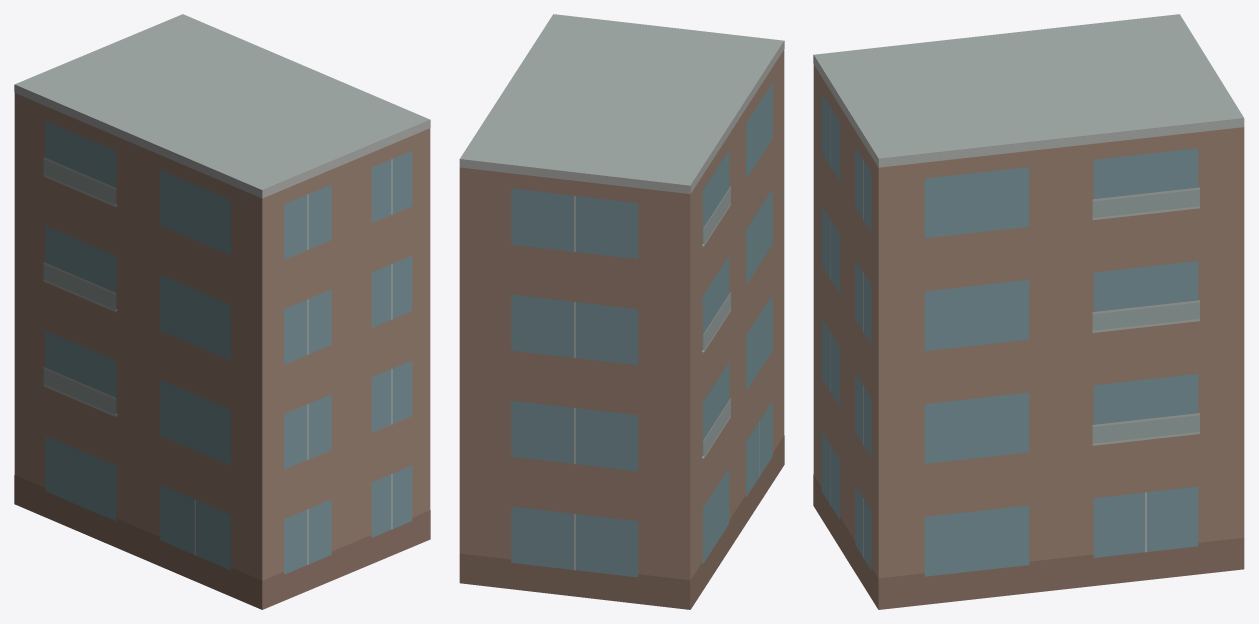
Rendered from residential-6a234dfe-c7c0-4ecf-9764-132329ea10c4.glb.
The picture shows the model from 3 angles, left to right: view 1: azimuth 30°, elevation 25°; view 2: azimuth 150°, elevation 25°; view 3: azimuth 270°, elevation 25°; orthographic projection. The views are drawn at different scales.
Visible parts, largest first — view 1: residential-6a234dfe-c7c0-4ecf-9764-132329ea10c4.tmp; view 2: residential-6a234dfe-c7c0-4ecf-9764-132329ea10c4.tmp; view 3: residential-6a234dfe-c7c0-4ecf-9764-132329ea10c4.tmp.
Boxes of the visible parts, bbox=[...] form: residential-6a234dfe-c7c0-4ecf-9764-132329ea10c4.tmp: bbox=[14, 14, 430, 609]; residential-6a234dfe-c7c0-4ecf-9764-132329ea10c4.tmp: bbox=[459, 14, 784, 609]; residential-6a234dfe-c7c0-4ecf-9764-132329ea10c4.tmp: bbox=[813, 14, 1244, 609].
Bounding box in the file's own units: 8.4 × 12.2 × 10.56.
